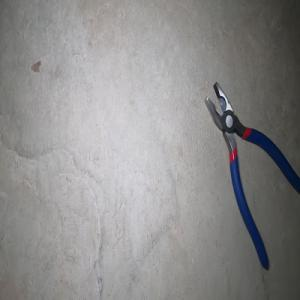Pliers: (204, 82, 300, 271)
